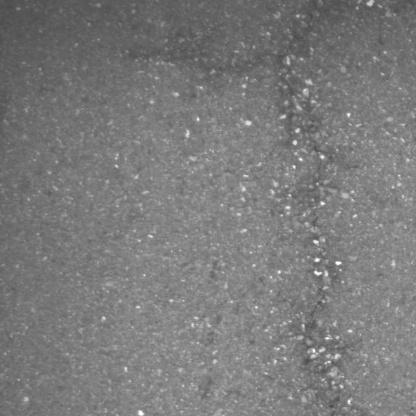Cracks: (270, 15, 354, 416)
